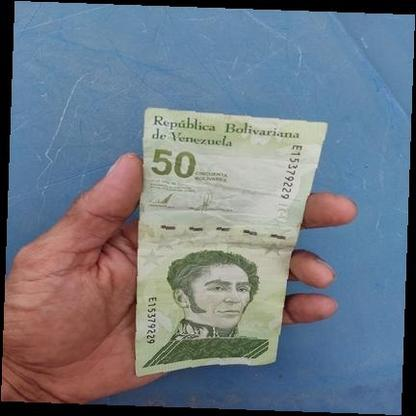vef_front: (135, 106, 327, 376)
